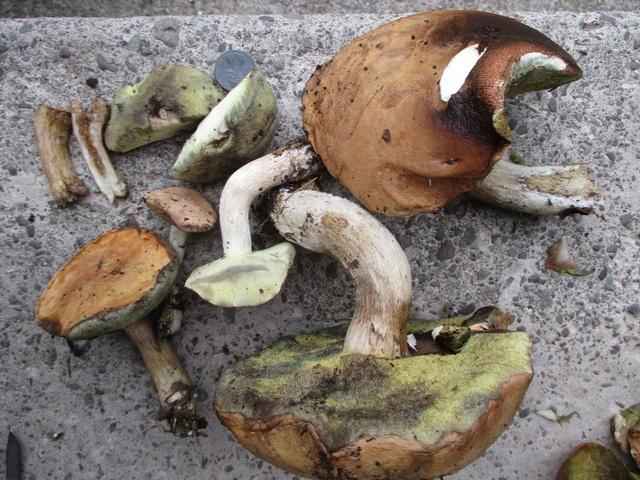edible_mushroom: (225, 193, 528, 480), (299, 7, 601, 218), (33, 224, 200, 435)
